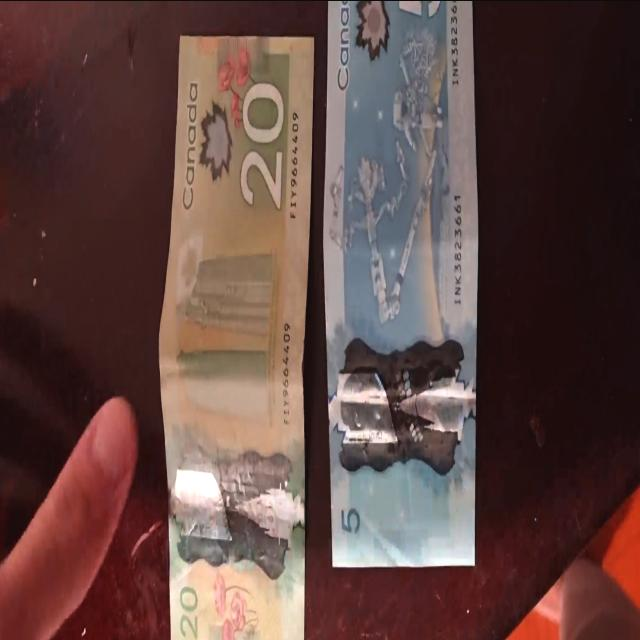20 cad: (172, 35, 312, 640)
5 cad: (333, 0, 471, 572)
